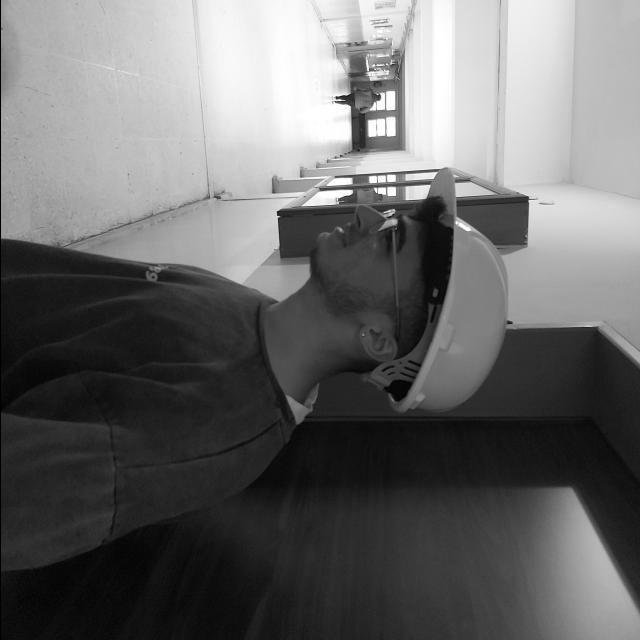construction helmet: (364, 167, 502, 413)
